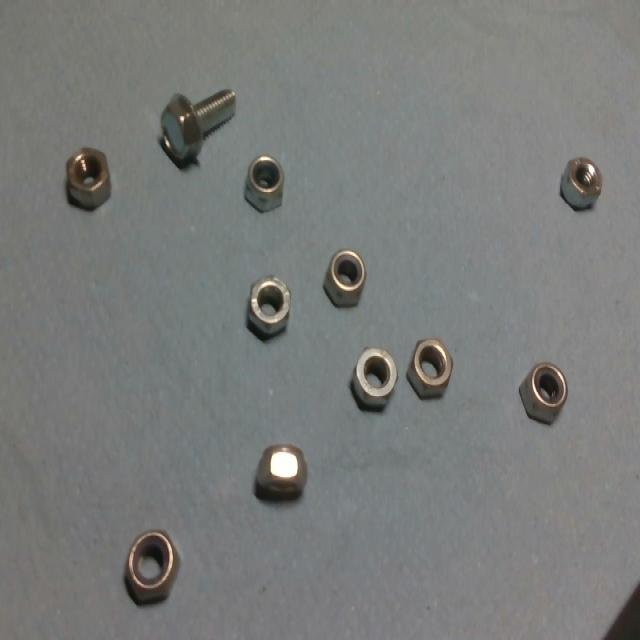Bolt: (161, 89, 235, 169)
Nut: (125, 532, 178, 604), (251, 440, 309, 503), (351, 348, 396, 413), (520, 363, 567, 425), (406, 339, 453, 400), (558, 153, 604, 215), (67, 145, 111, 209), (247, 276, 290, 337), (323, 248, 366, 309), (244, 155, 284, 212)
